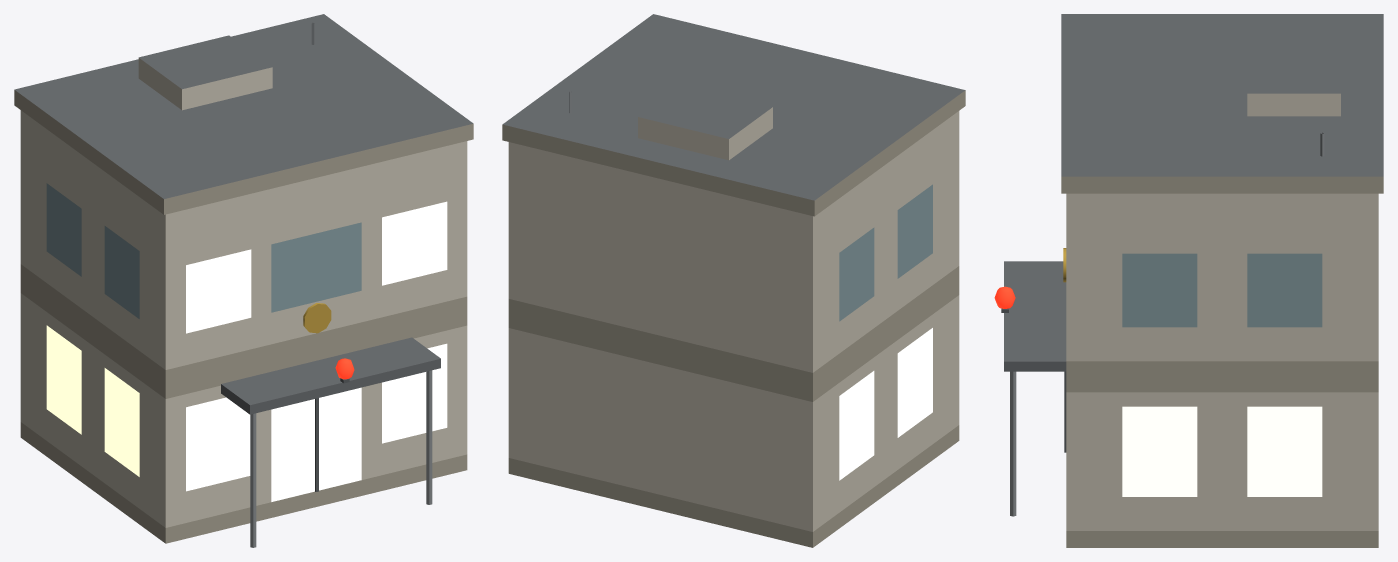
The model's file is tokyo_koban.glb.
3 views of the same model, side by side, from view 1: azimuth 30°, elevation 25°; view 2: azimuth 150°, elevation 25°; view 3: azimuth 270°, elevation 25° (orthographic). The views are drawn at different scales.
Visible parts, largest first — view 1: tokyo_koban; view 2: tokyo_koban; view 3: tokyo_koban.
Part boxes in pixels (x1,y1,x2,y2): tokyo_koban: (14,14,473,547); tokyo_koban: (502,14,965,547); tokyo_koban: (994,14,1383,547).
Bounding box in the file's own units: 6.16 × 7 × 6.23.
Materials: 1 (1 with a texture image).
